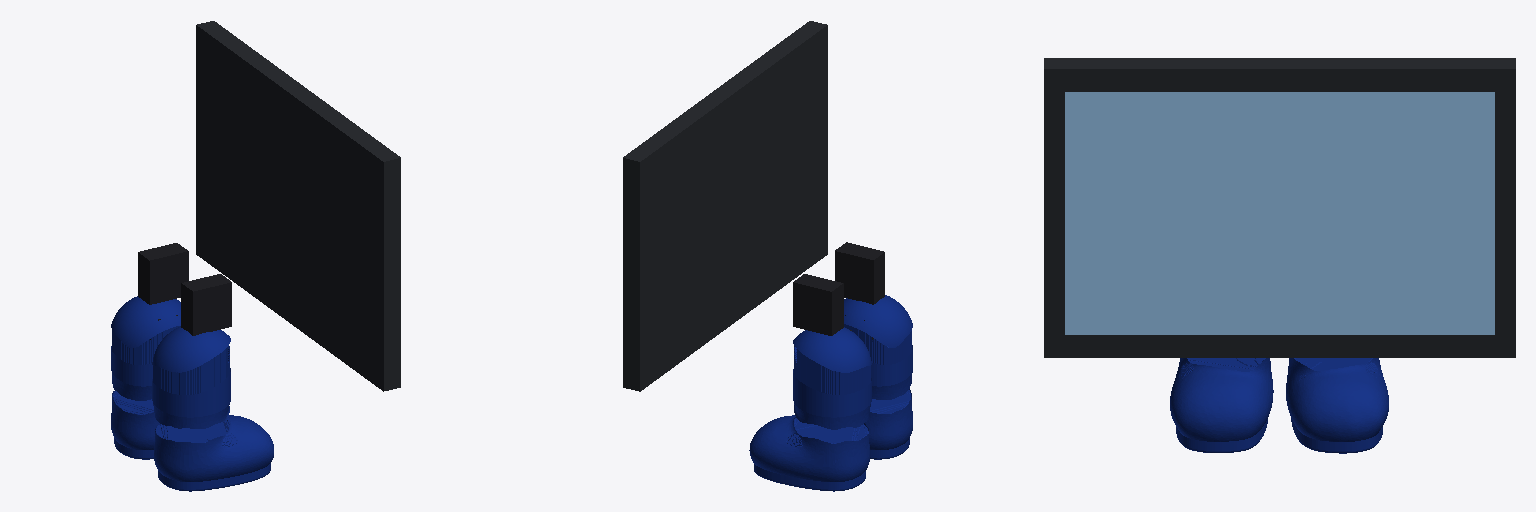
robot.urdf — haetburi:
<?xml version="1.0"?>
<!-- Haetburi biped (v19_scs0009) - generated by tools/build_model.py, do not edit by hand -->
<robot name="haetburi">
  <mujoco>
    <compiler meshdir="." balanceinertia="true" discardvisual="false" strippath="false" fusestatic="false"/>
  </mujoco>
  <material name="display"><color rgba="0.18 0.19 0.21 1"/></material>
  <material name="screen"><color rgba="0.62 0.80 0.95 1"/></material>
  <material name="shell"><color rgba="0.106 0.216 0.541 1"/></material>
  <material name="motor"><color rgba="0.15 0.15 0.17 1"/></material>
  <material name="foot"><color rgba="0.25 0.25 0.28 1"/></material>
  <link name="world"/>
  <joint name="floating_base" type="floating">
    <parent link="world"/><child link="pelvis"/>
    <origin xyz="0 0 0" rpy="0 0 0"/>
  </joint>
  <link name="pelvis">
    <inertial>
      <origin xyz="-0.00565133 -0.0001742 0.0404389" rpy="0 0 0"/>
      <mass value="0.292833"/>
      <inertia ixx="0.000237458" ixy="1.50315e-06" ixz="7.75784e-05" iyy="0.000282223" iyz="-6.59828e-07" izz="0.000279635"/>
    </inertial>
    <visual><origin xyz="0 0 0" rpy="0 0 0"/><geometry><mesh filename="meshes/pelvis.stl"/></geometry><material name="shell"/></visual>
    <visual><origin xyz="0.00710235 0.0218222 0.050825" rpy="0 0 0"/><geometry><box size="0.0232 0.0121 0.02525"/></geometry><material name="motor"/></visual>
    <visual><origin xyz="0.00759765 -0.0220914 0.050825" rpy="0 0 0"/><geometry><box size="0.0232 0.0121 0.02525"/></geometry><material name="motor"/></visual>
    <collision><origin xyz="0.00665591 -0.000130398 0.0312817" rpy="0 0 0"/><geometry><box size="0.0798012 0.105971 0.0305633"/></geometry></collision>
  </link>
  <link name="torso">
    <inertial>
      <origin xyz="0.0223488 7.44665e-05 0.0999104" rpy="0 0 0"/>
      <mass value="1.46009"/>
      <inertia ixx="0.0174471" ixy="-4.03743e-05" ixz="0.00297839" iyy="0.0172088" iyz="-4.29393e-05" izz="0.00993189"/>
    </inertial>
    <visual><origin xyz="0 0 0" rpy="0 0 0"/><geometry><mesh filename="meshes/torso.stl"/></geometry><material name="shell"/></visual>
    <visual><origin xyz="0.0748853 0 0.0357141" rpy="0 0 0"/><geometry><box size="0.010534 0.192818 0.130347"/></geometry><material name="display"/></visual>
    <visual><origin xyz="0.0801523 0 0.0357141" rpy="0 0 0"/><geometry><box size="0.0004 0.175872 0.10992"/></geometry><material name="screen"/></visual>
    <collision><origin xyz="-0.0347689 -1.61855e-06 0.0256511" rpy="0 0 0"/><geometry><box size="0.163201 0.110662 0.108979"/></geometry></collision>
    <collision><origin xyz="0.0424566 0.0857177 0.0516889" rpy="0 0 0"/><geometry><sphere radius="0.0620046"/></geometry></collision>
    <collision><origin xyz="0.0427501 -0.0858491 0.0516889" rpy="0 0 0"/><geometry><sphere radius="0.0619449"/></geometry></collision>
    <collision><origin xyz="-0.00532902 0.000272531 0.104643" rpy="0 0 0"/><geometry><sphere radius="0.10635"/></geometry></collision>
    <collision><origin xyz="-0.009286 -0.000125296 0.153614" rpy="0 0 0"/><geometry><sphere radius="0.122696"/></geometry></collision>
    <collision><origin xyz="-0.0141399 -0.000206796 0.202594" rpy="0 0 0"/><geometry><sphere radius="0.121275"/></geometry></collision>
    <collision><origin xyz="-0.0110928 0.000873577 0.251572" rpy="0 0 0"/><geometry><sphere radius="0.105453"/></geometry></collision>
    <collision><origin xyz="-0.00656391 0.0069146 0.300579" rpy="0 0 0"/><geometry><sphere radius="0.0751639"/></geometry></collision>
    <collision><origin xyz="-0.0120293 -0.00228543 0.349544" rpy="0 0 0"/><geometry><sphere radius="0.0436198"/></geometry></collision>
    <collision><origin xyz="0.0748853 0 0.0357141" rpy="0 0 0"/><geometry><box size="0.010534 0.192818 0.130347"/></geometry></collision>
  </link>
  <link name="leg_l">
    <inertial>
      <origin xyz="-0.00142793 0.00169675 -0.0124327" rpy="0 0 0"/>
      <mass value="0.0444015"/>
      <inertia ixx="2.42411e-05" ixy="7.00684e-08" ixz="5.44817e-07" iyy="2.38542e-05" iyz="1.40733e-07" izz="1.08526e-05"/>
    </inertial>
    <visual><origin xyz="0 0 0" rpy="0 0 0"/><geometry><mesh filename="meshes/leg_l.stl"/></geometry><material name="shell"/></visual>
    <collision><origin xyz="-0.00151967 0.00207091 -0.00199661" rpy="0 0 0"/><geometry><box size="0.041197 0.0377789 0.0498092"/></geometry></collision>
  </link>
  <link name="hip_l">
    <inertial>
      <origin xyz="0 -0.00169586 0.0205051" rpy="0 0 0"/>
      <mass value="0.0189692"/>
      <inertia ixx="1.34943e-06" ixy="0" ixz="0" iyy="8.05144e-07" iyz="1.44526e-08" izz="8.66384e-07"/>
    </inertial>
    <visual><origin xyz="0 -0.002 0.0216" rpy="0 0 0"/><geometry><box size="0.0121 0.02525 0.0232"/></geometry><material name="motor"/></visual>
  </link>
  <link name="foot_l">
    <inertial>
      <origin xyz="0.0011021 0.00469495 -0.00157523" rpy="0 0 0"/>
      <mass value="0.07077"/>
      <inertia ixx="1.42002e-05" ixy="-7.84883e-07" ixz="-2.8065e-07" iyy="2.1269e-05" iyz="-7.74582e-07" izz="2.45661e-05"/>
    </inertial>
    <visual><origin xyz="0 0 0" rpy="0 0 0"/><geometry><mesh filename="meshes/foot_l.stl"/></geometry><material name="shell"/></visual>
    <visual><origin xyz="0 0.0056 3.42901e-19" rpy="0 0 0"/><geometry><box size="0.02525 0.0232 0.0121"/></geometry><material name="motor"/></visual>
    <collision><origin xyz="0 0 0" rpy="0 0 0"/><geometry><mesh filename="meshes/foot_l.stl"/></geometry></collision>
  </link>
  <link name="leg_r">
    <inertial>
      <origin xyz="-0.00164899 -0.00217189 -0.0122858" rpy="0 0 0"/>
      <mass value="0.044664"/>
      <inertia ixx="2.4402e-05" ixy="-8.64724e-08" ixz="7.13259e-07" iyy="2.3989e-05" iyz="-1.41398e-07" izz="1.09856e-05"/>
    </inertial>
    <visual><origin xyz="0 0 0" rpy="0 0 0"/><geometry><mesh filename="meshes/leg_r.stl"/></geometry><material name="shell"/></visual>
    <collision><origin xyz="-0.00207213 -0.00255403 -0.00170545" rpy="0 0 0"/><geometry><box size="0.0410472 0.0378571 0.050112"/></geometry></collision>
  </link>
  <link name="hip_r">
    <inertial>
      <origin xyz="0 0.00211983 0.0205051" rpy="0 0 0"/>
      <mass value="0.0189692"/>
      <inertia ixx="1.35168e-06" ixy="0" ixz="0" iyy="8.05144e-07" iyz="-1.80657e-08" izz="8.68643e-07"/>
    </inertial>
    <visual><origin xyz="0 0.0025 0.0216" rpy="0 0 0"/><geometry><box size="0.0121 0.02525 0.0232"/></geometry><material name="motor"/></visual>
  </link>
  <link name="foot_r">
    <inertial>
      <origin xyz="0.000754303 -0.00463915 -0.0019275" rpy="0 0 0"/>
      <mass value="0.0706006"/>
      <inertia ixx="1.41088e-05" ixy="7.89255e-07" ixz="-1.8081e-07" iyy="2.11511e-05" iyz="7.70784e-07" izz="2.44396e-05"/>
    </inertial>
    <visual><origin xyz="0 0 0" rpy="0 0 0"/><geometry><mesh filename="meshes/foot_r.stl"/></geometry><material name="shell"/></visual>
    <visual><origin xyz="0 -0.0056 3.42901e-19" rpy="0 0 0"/><geometry><box size="0.02525 0.0232 0.0121"/></geometry><material name="motor"/></visual>
    <collision><origin xyz="0 0 0" rpy="0 0 0"/><geometry><mesh filename="meshes/foot_r.stl"/></geometry></collision>
  </link>
  <joint name="waist_fixed" type="fixed">
    <parent link="pelvis"/><child link="torso"/>
    <origin xyz="0 0 0.0465633" rpy="0 0 0"/>
  </joint>
  <joint name="hip_yaw_l" type="revolute">
    <parent link="pelvis"/><child link="hip_l"/>
    <origin xyz="0.00150235 0.0218222 0" rpy="0 0 0"/>
    <axis xyz="0 0 1"/>
    <limit lower="-0.296706" upper="0.296706" effort="0.226" velocity="10.5"/>
    <dynamics damping="0.016142857142857146" friction="0.006457142857142858"/>
  </joint>
  <joint name="hip_pitch_l" type="revolute">
    <parent link="hip_l"/><child link="leg_l"/>
    <origin xyz="0 -0.002 0.016" rpy="0 0 0"/>
    <axis xyz="0 1 0"/>
    <limit lower="-0.558505" upper="0.471239" effort="0.226" velocity="10.5"/>
    <dynamics damping="0.016142857142857146" friction="0.006457142857142858"/>
  </joint>
  <joint name="hip_yaw_r" type="revolute">
    <parent link="pelvis"/><child link="hip_r"/>
    <origin xyz="0.00199765 -0.0220914 0" rpy="0 0 0"/>
    <axis xyz="0 0 1"/>
    <limit lower="-0.296706" upper="0.296706" effort="0.226" velocity="10.5"/>
    <dynamics damping="0.016142857142857146" friction="0.006457142857142858"/>
  </joint>
  <joint name="hip_pitch_r" type="revolute">
    <parent link="hip_r"/><child link="leg_r"/>
    <origin xyz="0 0.0025 0.016" rpy="0 0 0"/>
    <axis xyz="0 1 0"/>
    <limit lower="-0.558505" upper="0.471239" effort="0.226" velocity="10.5"/>
    <dynamics damping="0.016142857142857146" friction="0.006457142857142858"/>
  </joint>
  <joint name="ankle_roll_l" type="revolute">
    <parent link="leg_l"/><child link="foot_l"/>
    <origin xyz="0.007942 -0.00243537 -0.0511775" rpy="0 0 0"/>
    <axis xyz="1 0 0"/>
    <limit lower="-0.261799" upper="0.261799" effort="0.226" velocity="10.5"/>
    <dynamics damping="0.016142857142857146" friction="0.006457142857142858"/>
  </joint>
  <joint name="ankle_roll_r" type="revolute">
    <parent link="leg_r"/><child link="foot_r"/>
    <origin xyz="0.00793048 0.00182629 -0.0507958" rpy="0 0 0"/>
    <axis xyz="1 0 0"/>
    <limit lower="-0.261799" upper="0.261799" effort="0.226" velocity="10.5"/>
    <dynamics damping="0.016142857142857146" friction="0.006457142857142858"/>
  </joint>
</robot>

--- Render facts (derived) ---
Views: 3 orthographic renders of the robot side by side, from view 1: azimuth 30°, elevation 25°; view 2: azimuth 150°, elevation 25°; view 3: azimuth 270°, elevation 25°.
Model haetburi with 9 links and 8 joints (6 revolute, 1 fixed, 1 floating), rooted at world, posed every joint at zero.
Links seen in each view (by area): view 1: torso, foot_r, leg_r, pelvis, leg_l, foot_l; view 2: torso, foot_l, leg_l, pelvis, leg_r, foot_r; view 3: torso, foot_r, foot_l.
Link boxes in pixels (x1=…): torso: x1=196, y1=21, x2=400, y2=391; foot_r: x1=154, y1=415, x2=273, y2=491; leg_r: x1=152, y1=326, x2=230, y2=428; pelvis: x1=138, y1=243, x2=231, y2=335; leg_l: x1=111, y1=296, x2=180, y2=400; foot_l: x1=111, y1=391, x2=158, y2=459; torso: x1=623, y1=21, x2=827, y2=391; foot_l: x1=749, y1=415, x2=869, y2=491; leg_l: x1=793, y1=327, x2=871, y2=429; pelvis: x1=793, y1=242, x2=884, y2=335; leg_r: x1=844, y1=295, x2=912, y2=399; foot_r: x1=865, y1=389, x2=912, y2=459; torso: x1=1044, y1=58, x2=1515, y2=357; foot_r: x1=1170, y1=358, x2=1273, y2=452; foot_l: x1=1286, y1=358, x2=1388, y2=453.
Size in the robot's own frame: 0.101 by 0.1928 by 0.1927 metres.
4 mesh visuals loaded from 6 distinct referenced files (4 binary STL); not drawn: 2 (reference not matched to a file when rendering).
